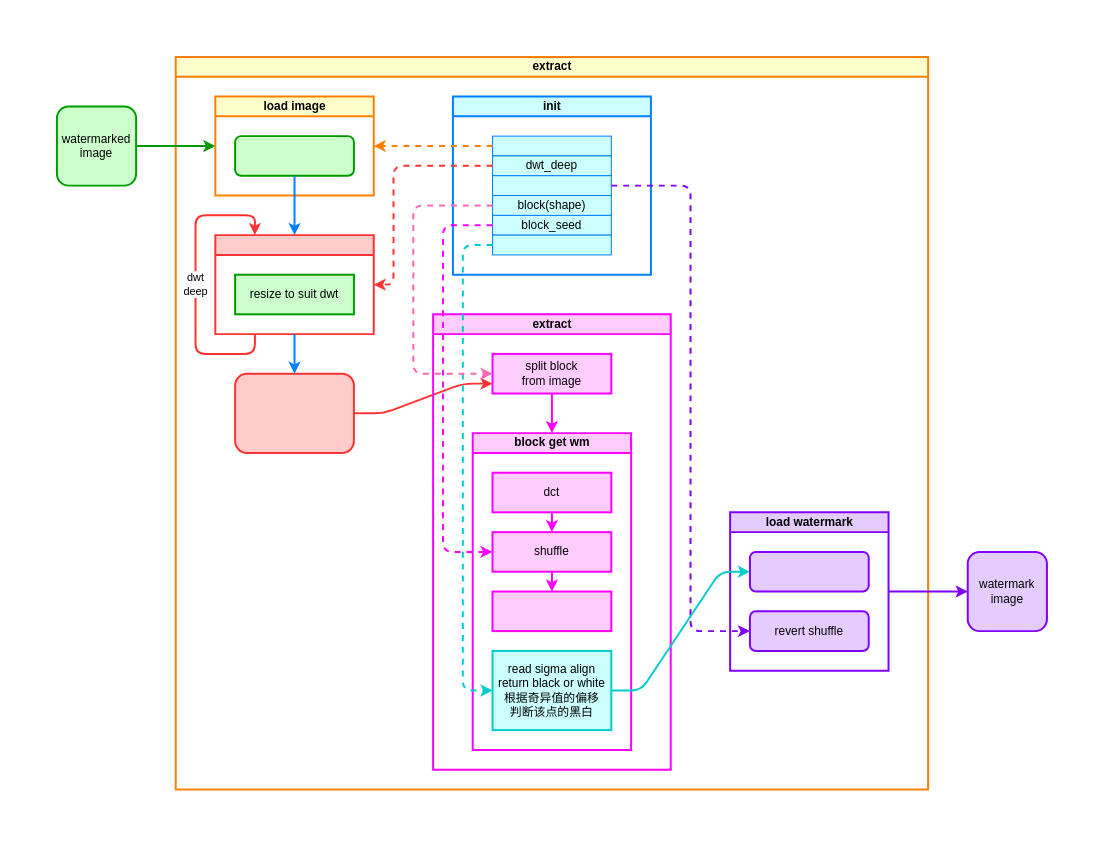
Image size: 1103x845. Some labels were removed from this diagram. The shapes that lost their labels are listed below. From the top down, each one's box as (x1, y1, x2, y2) in pixels, then its label:
(234, 135, 354, 176): cv2 image in specific mode
(492, 135, 611, 156): color_mode
(492, 175, 611, 196): wm_seed
(492, 234, 611, 255): mod
(214, 234, 374, 335): dwt 小波变换
(234, 372, 354, 453): dwt image 用来嵌入水印的图片
(748, 550, 869, 592): 2d data 二维单通道
(491, 590, 612, 632): svd block data
